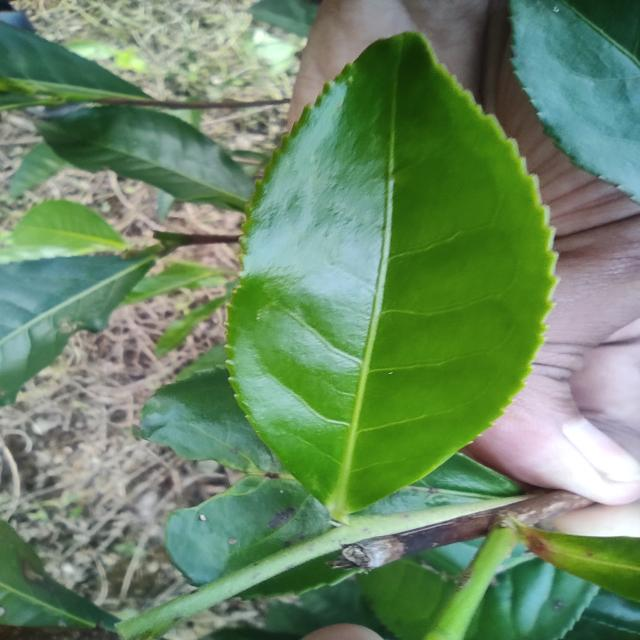Category C(4-7 days): (216, 7, 569, 520)
